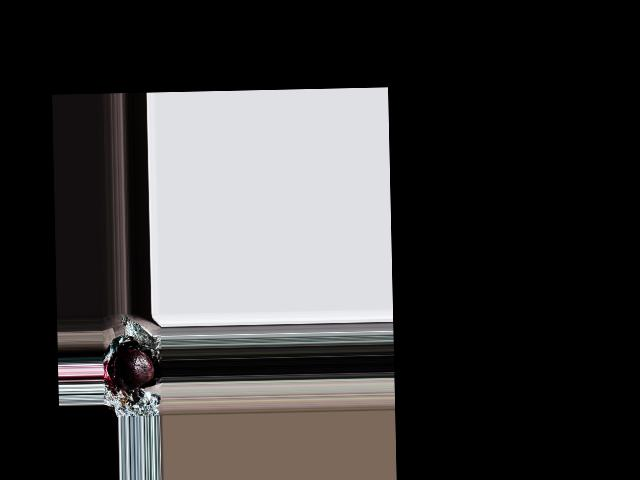beet: (114, 348, 154, 391)
